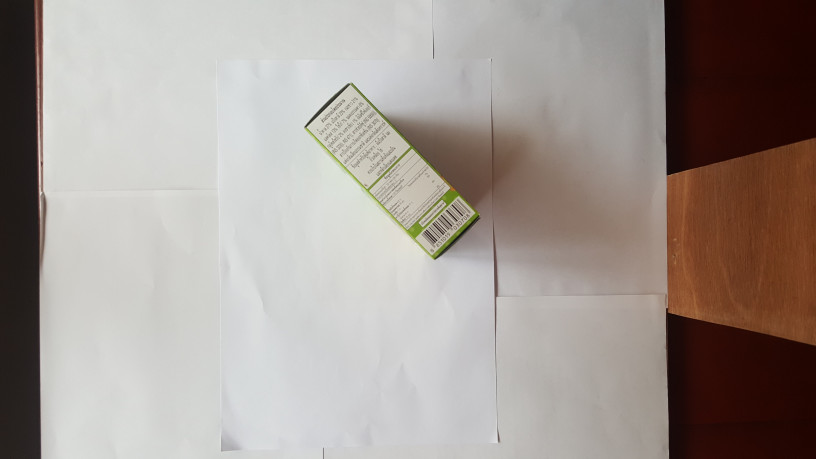collon-matcha: (301, 81, 480, 259)
